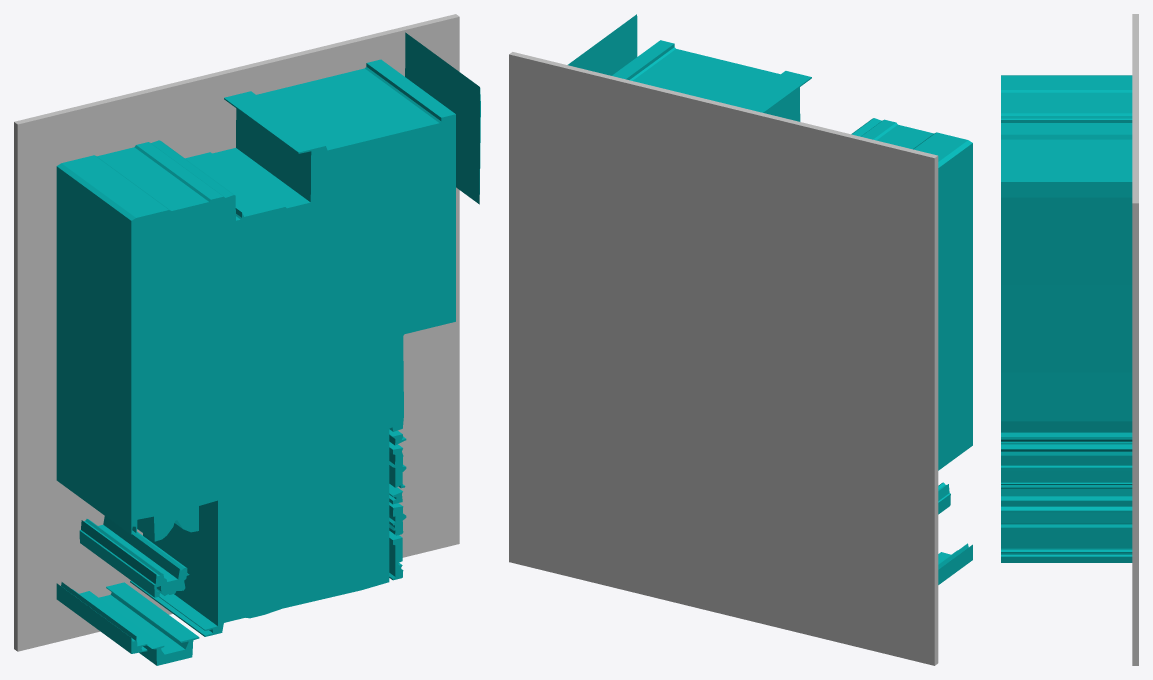
3 views of the same model, side by side, from view 1: azimuth 30°, elevation 25°; view 2: azimuth 150°, elevation 25°; view 3: azimuth 270°, elevation 25° (orthographic). The views are drawn at different scales.
Visible parts, largest first — view 1: world; view 2: world; view 3: world.
Boxes of the visible parts, x1,y1,x2,y2 form: world: (14, 14, 480, 665); world: (509, 14, 972, 665); world: (1001, 14, 1138, 665).
Size of the model in its own units: 10.23 by 11.66 by 3.15.
